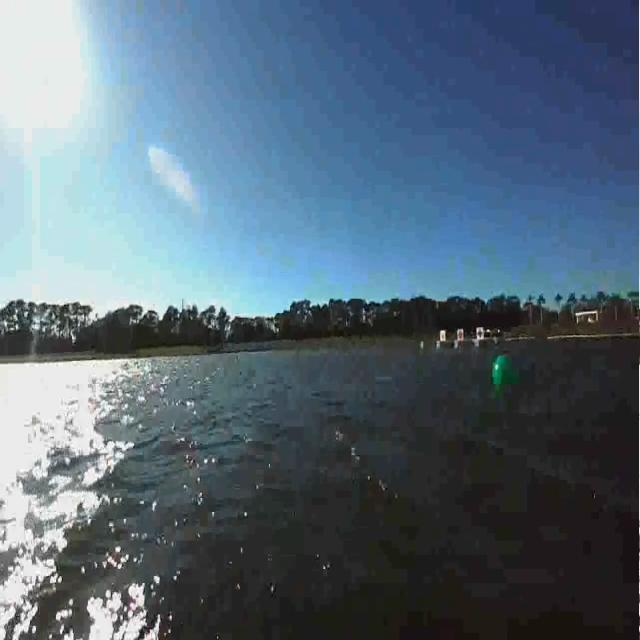green-buoy: (493, 354, 515, 396)
